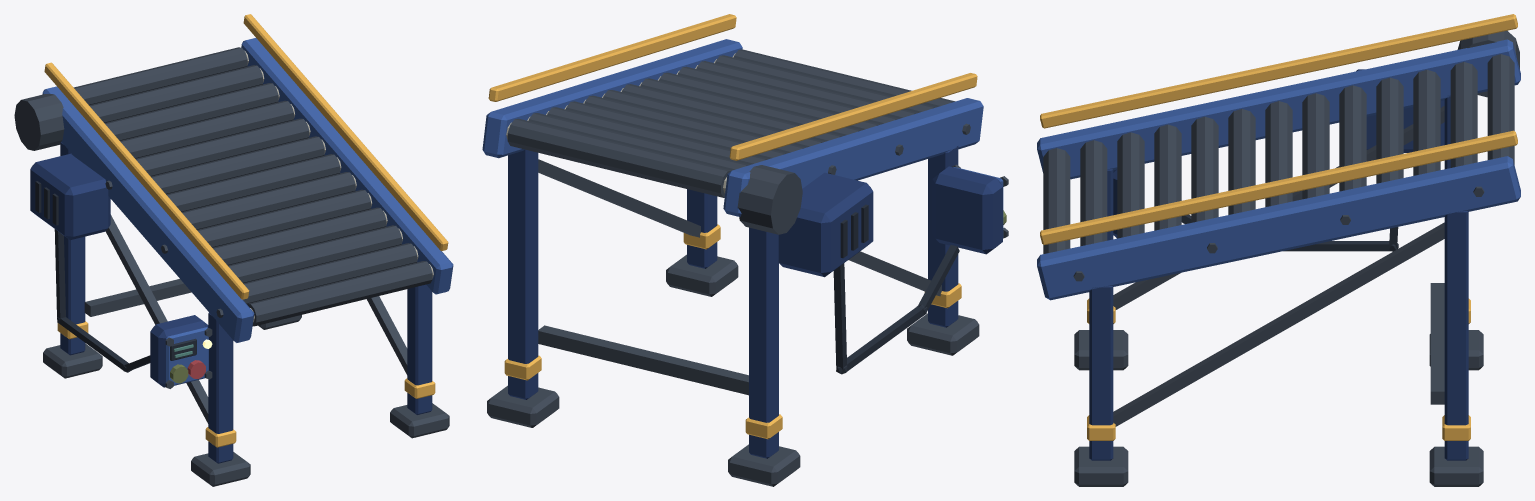
The model's file is mach_conveyor_ramp.glb.
The picture shows the model from 3 angles, left to right: view 1: azimuth 30°, elevation 25°; view 2: azimuth 150°, elevation 25°; view 3: azimuth 270°, elevation 25°; orthographic projection. The views are drawn at different scales.
Visible parts, largest first — view 1: mach_conveyor_ramp, mach_conveyor_ramp__bed_rail_-1, mach_conveyor_ramp__motor_cover, mach_conveyor_ramp__roller_00_rubber, mach_conveyor_ramp__roller_01_rubber, mach_conveyor_ramp__guard_rail_-1, mach_conveyor_ramp__roller_03_rubber, mach_conveyor_ramp__roller_08_rubber, mach_conveyor_ramp__roller_06_rubber, mach_conveyor_ramp__roller_07_rubber, mach_conveyor_ramp__roller_10_rubber, mach_conveyor_ramp__roller_12_rubber (+16 smaller); view 2: mach_conveyor_ramp, mach_conveyor_ramp__bed_rail_-1, mach_conveyor_ramp__support_1_1_stem, mach_conveyor_ramp__roller_12_rubber, mach_conveyor_ramp__motor_cover, mach_conveyor_ramp__support_-1_1_stem, mach_conveyor_ramp__control_housing, mach_conveyor_ramp__cross_brace, mach_conveyor_ramp__guard_rail_-1, mach_conveyor_ramp__drive_end, mach_conveyor_ramp__support_-1_0_stem, mach_conveyor_ramp__roller_11_rubber (+19 smaller); view 3: mach_conveyor_ramp, mach_conveyor_ramp__bed_rail_-1, mach_conveyor_ramp__guard_rail_-1, mach_conveyor_ramp__support_1_1_stem, mach_conveyor_ramp__support_1_0_stem, mach_conveyor_ramp__roller_12_rubber, mach_conveyor_ramp__roller_07_rubber, mach_conveyor_ramp__roller_08_rubber, mach_conveyor_ramp__roller_03_rubber, mach_conveyor_ramp__roller_04_rubber, mach_conveyor_ramp__roller_09_rubber, mach_conveyor_ramp__roller_10_rubber (+15 smaller).
Boxes of the visible parts, left/top/right/bottom form: mach_conveyor_ramp: left=35, top=14, right=453, bottom=388; mach_conveyor_ramp__bed_rail_-1: left=42, top=86, right=254, bottom=342; mach_conveyor_ramp__motor_cover: left=30, top=153, right=110, bottom=239; mach_conveyor_ramp__roller_00_rubber: left=247, top=261, right=432, bottom=326; mach_conveyor_ramp__roller_01_rubber: left=243, top=243, right=417, bottom=303; mach_conveyor_ramp__guard_rail_-1: left=44, top=62, right=249, bottom=299; mach_conveyor_ramp__roller_03_rubber: left=212, top=207, right=386, bottom=265; mach_conveyor_ramp__roller_08_rubber: left=135, top=118, right=309, bottom=176; mach_conveyor_ramp__roller_06_rubber: left=166, top=154, right=340, bottom=211; mach_conveyor_ramp__roller_07_rubber: left=151, top=136, right=324, bottom=194; mach_conveyor_ramp__roller_10_rubber: left=104, top=83, right=278, bottom=140; mach_conveyor_ramp__roller_12_rubber: left=73, top=47, right=247, bottom=105; mach_conveyor_ramp: left=482, top=14, right=1008, bottom=374; mach_conveyor_ramp__bed_rail_-1: left=723, top=98, right=983, bottom=216; mach_conveyor_ramp__support_1_1_stem: left=508, top=149, right=538, bottom=399; mach_conveyor_ramp__roller_12_rubber: left=507, top=118, right=731, bottom=197; mach_conveyor_ramp__motor_cover: left=778, top=172, right=873, bottom=277; mach_conveyor_ramp__support_-1_1_stem: left=749, top=227, right=778, bottom=458; mach_conveyor_ramp__control_housing: left=932, top=166, right=1002, bottom=254; mach_conveyor_ramp__cross_brace: left=538, top=325, right=748, bottom=395; mach_conveyor_ramp__guard_rail_-1: left=729, top=73, right=977, bottom=160; mach_conveyor_ramp__drive_end: left=737, top=165, right=802, bottom=234; mach_conveyor_ramp__support_-1_0_stem: left=928, top=146, right=958, bottom=327; mach_conveyor_ramp__roller_11_rubber: left=528, top=113, right=749, bottom=170; mach_conveyor_ramp: left=1037, top=130, right=1520, bottom=426; mach_conveyor_ramp__bed_rail_-1: left=1037, top=39, right=1520, bottom=179; mach_conveyor_ramp__guard_rail_-1: left=1040, top=14, right=1517, bottom=128; mach_conveyor_ramp__support_1_1_stem: left=1444, top=211, right=1468, bottom=460; mach_conveyor_ramp__support_1_0_stem: left=1089, top=286, right=1113, bottom=460; mach_conveyor_ramp__roller_12_rubber: left=1487, top=54, right=1514, bottom=164; mach_conveyor_ramp__roller_07_rubber: left=1302, top=93, right=1329, bottom=199; mach_conveyor_ramp__roller_08_rubber: left=1339, top=85, right=1366, bottom=191; mach_conveyor_ramp__roller_03_rubber: left=1154, top=124, right=1181, bottom=230; mach_conveyor_ramp__roller_04_rubber: left=1191, top=116, right=1218, bottom=222; mach_conveyor_ramp__roller_09_rubber: left=1376, top=77, right=1403, bottom=183; mach_conveyor_ramp__roller_10_rubber: left=1413, top=69, right=1440, bottom=175.
Size of the model in its own units: 1.2 by 1.2 by 1.53.
